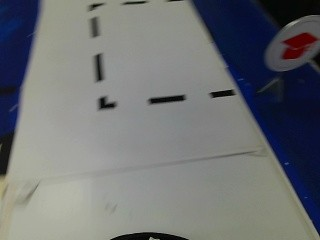school: (264, 12, 319, 75)
